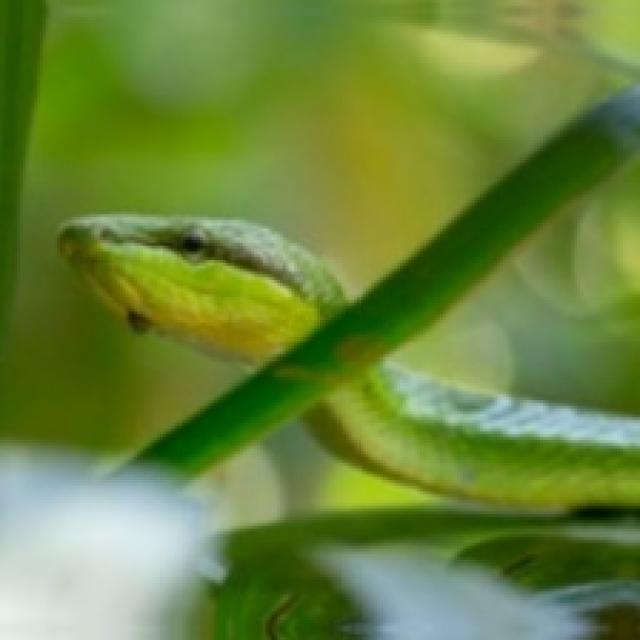red-tailed green ratsnake: (303, 363, 637, 509), (60, 214, 346, 363)
